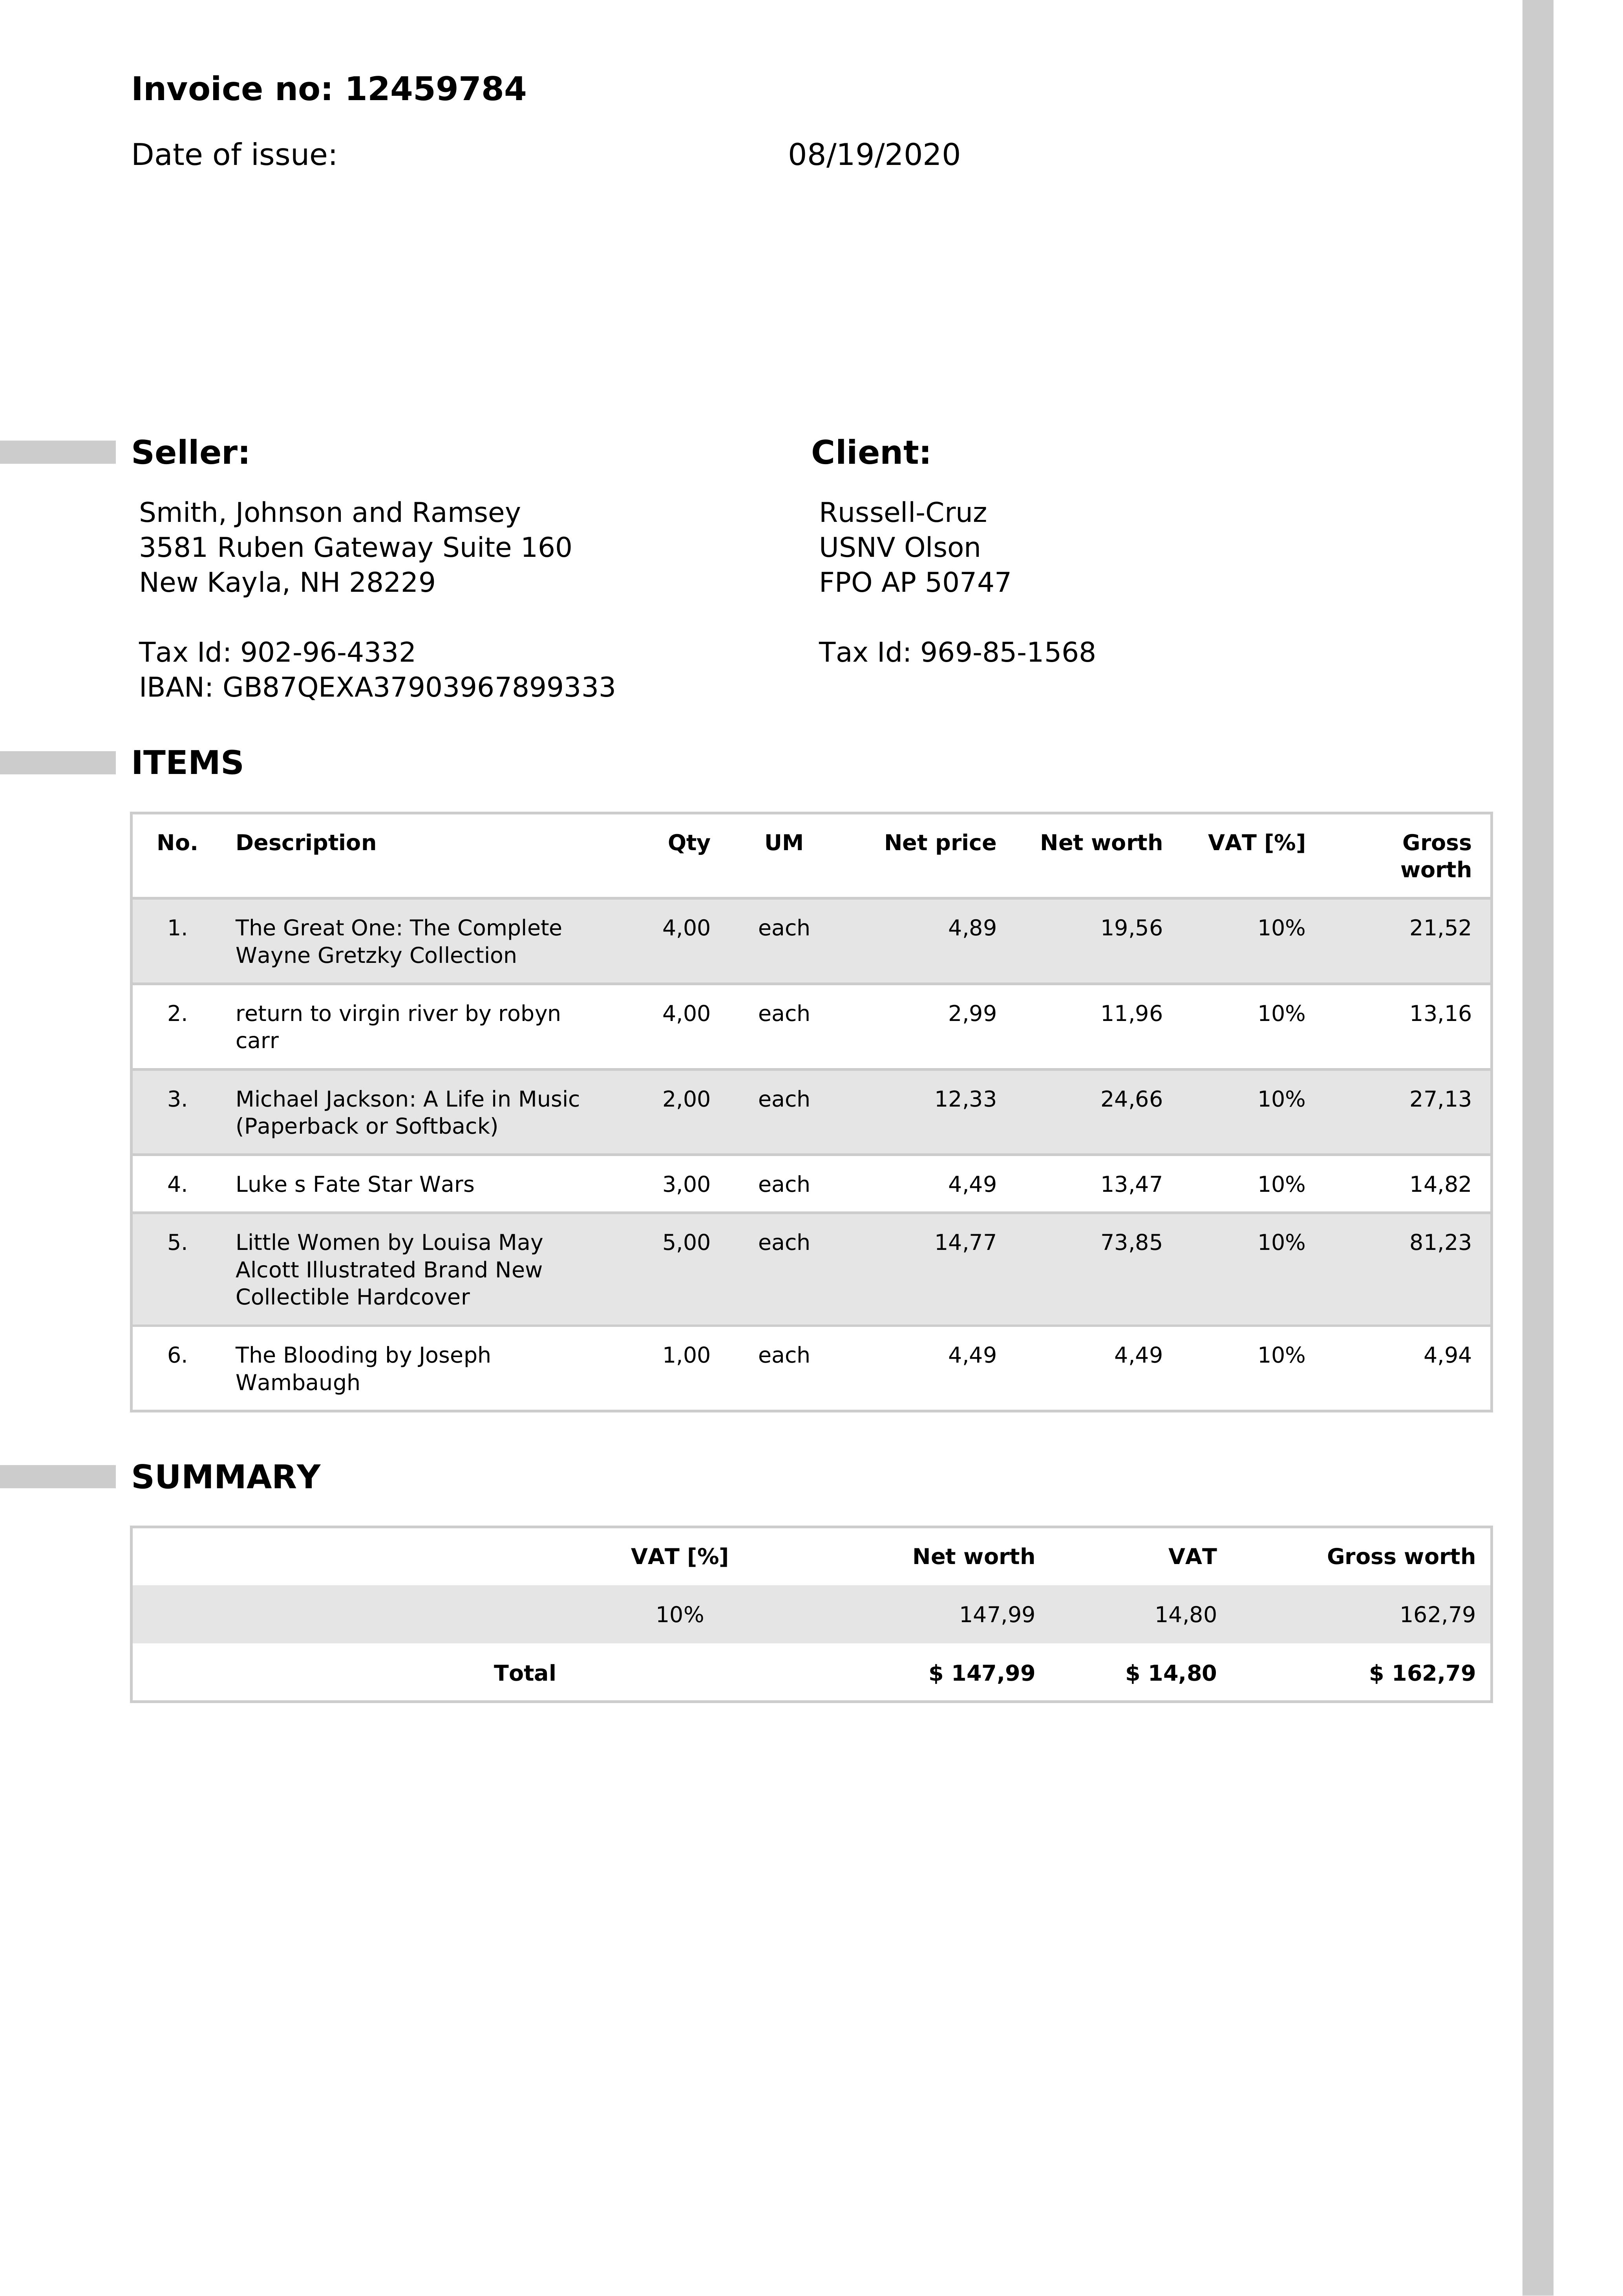column: (213, 812, 588, 1412), (862, 815, 1033, 1412), (1040, 812, 1182, 1416), (1201, 817, 1337, 1412), (1372, 817, 1490, 1409), (743, 817, 841, 1411), (634, 812, 725, 1412), (1317, 1534, 1491, 1699), (898, 1528, 1047, 1702), (1107, 1532, 1244, 1706), (618, 1527, 748, 1700), (488, 1528, 588, 1700)
